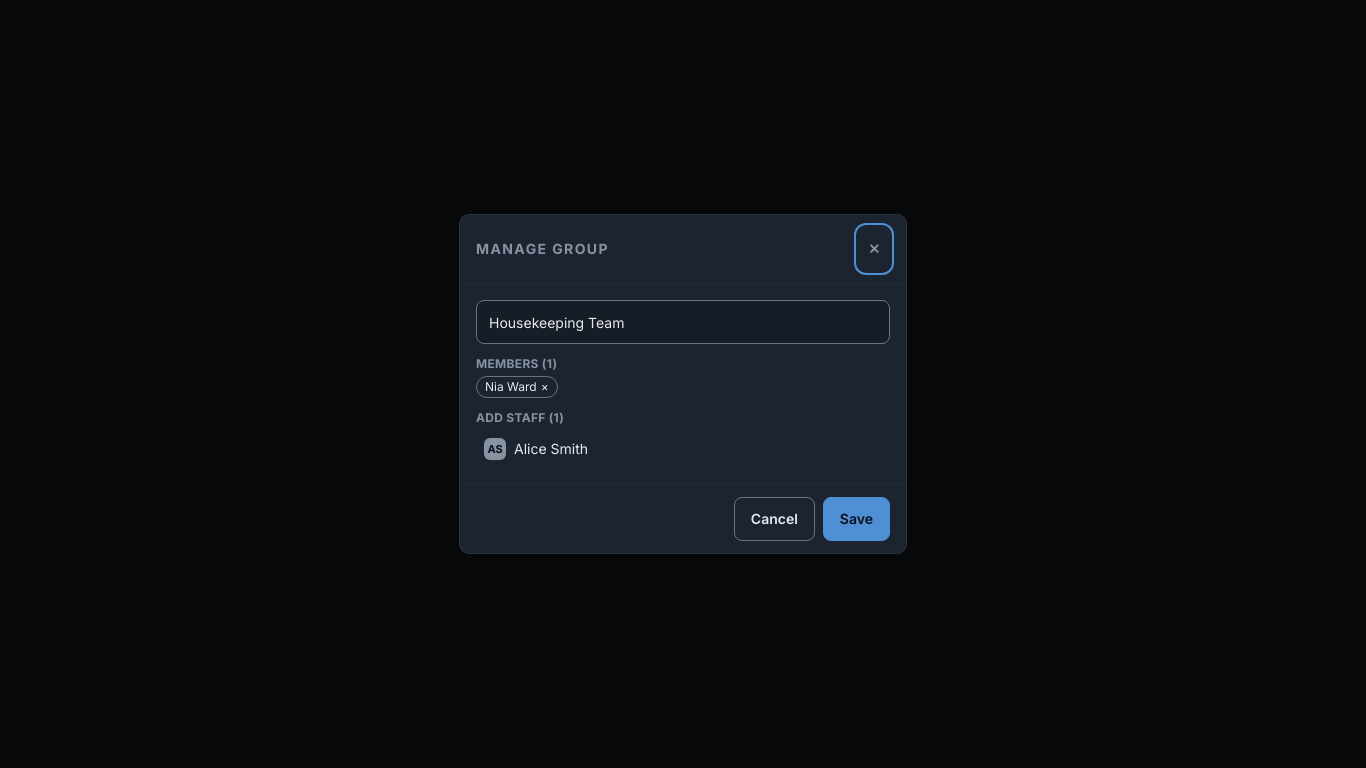
Test: GroupPanel › edit-mode: a failed rename blocks the add, keeps the panel open, and shows the error
Replace the text in the field with placeholder "Group Name" with "New Name" at [683, 322], box x1=476 y1=300 x2=890 y2=344
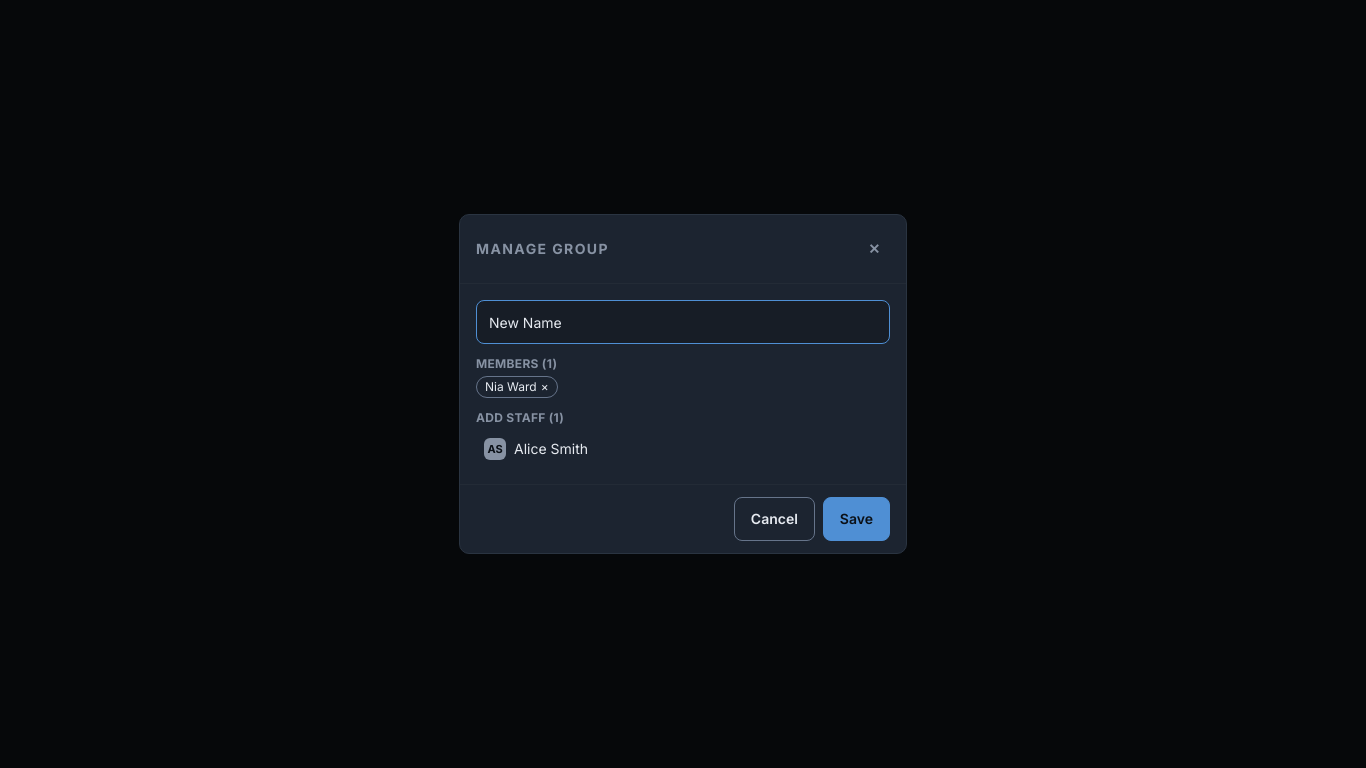
Click the button "AS Alice Smith" at [530, 448], box x1=476 y1=430 x2=890 y2=468
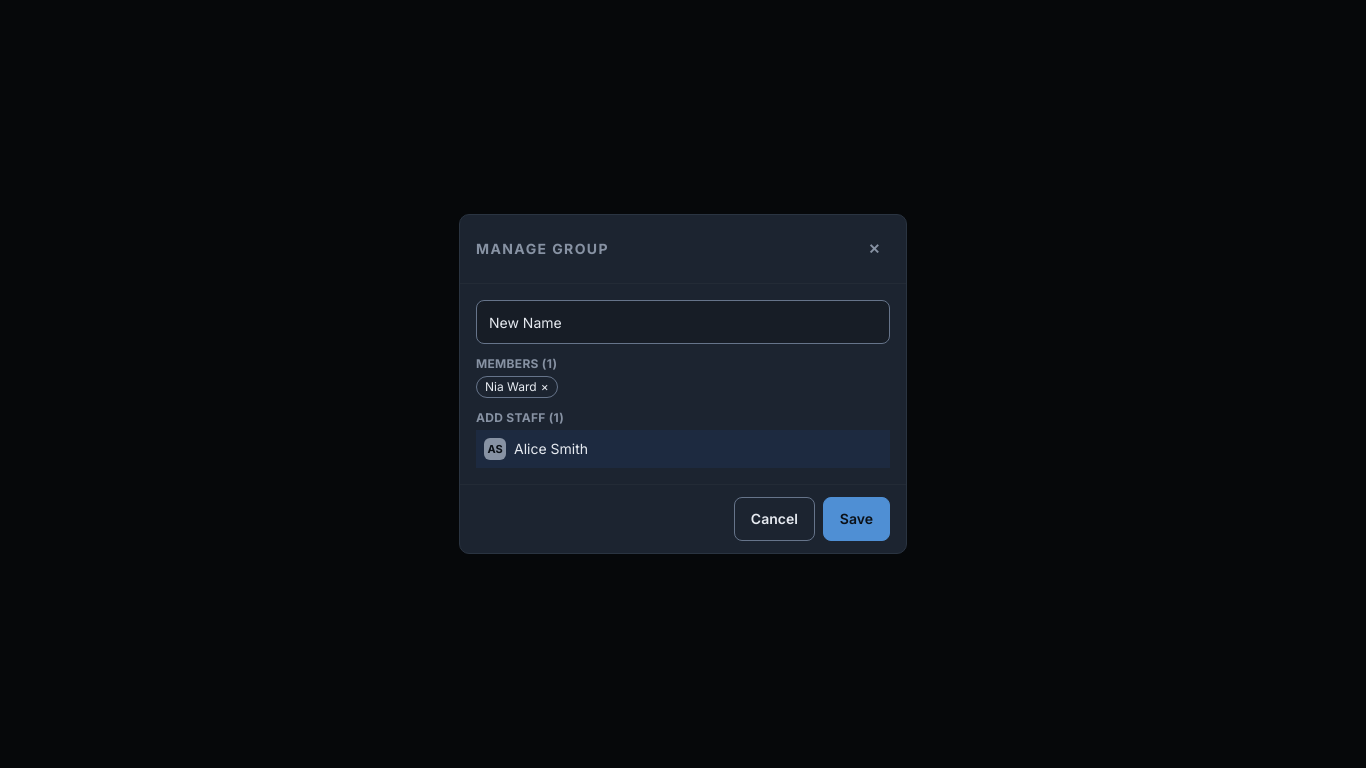
Click the button "Save" at [856, 519], box x1=823 y1=497 x2=890 y2=541
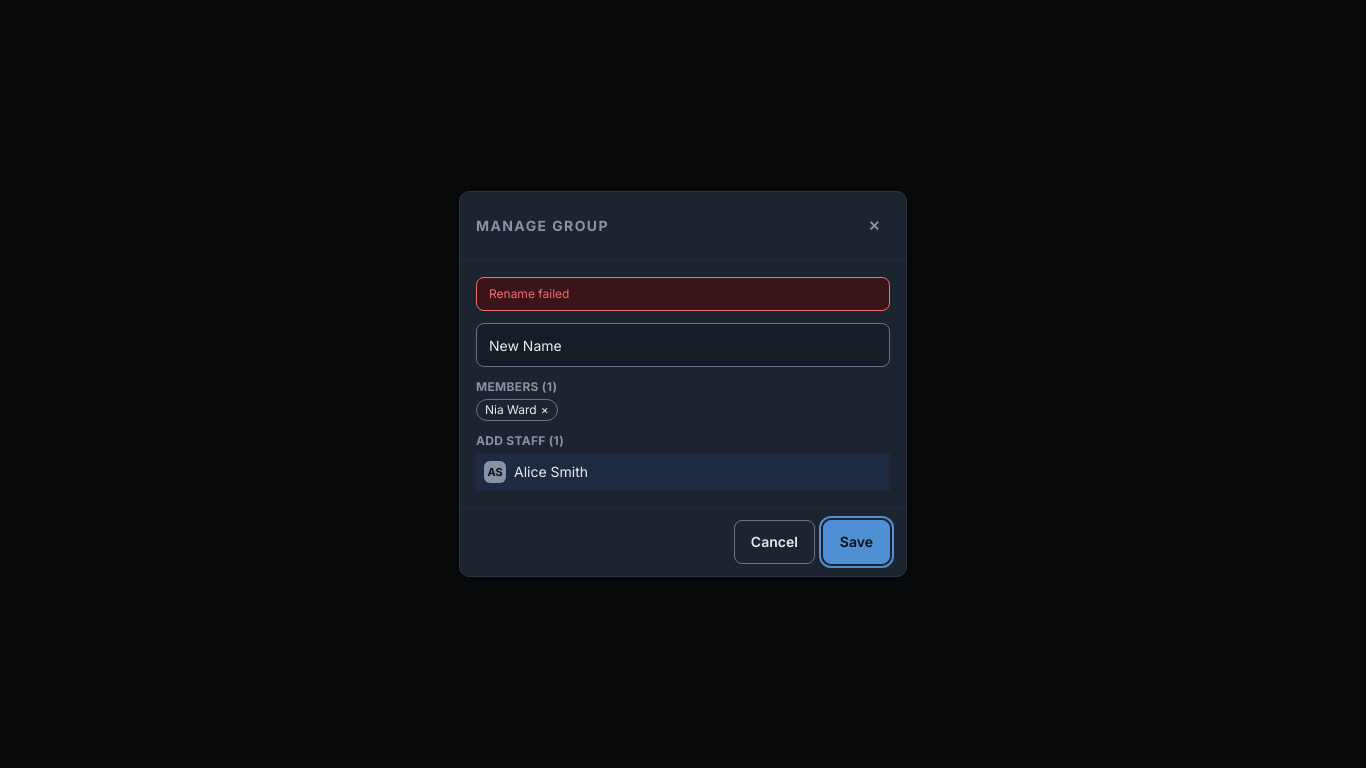
expect the message reads "Rename failed": met, box x1=489 y1=286 x2=569 y2=301
